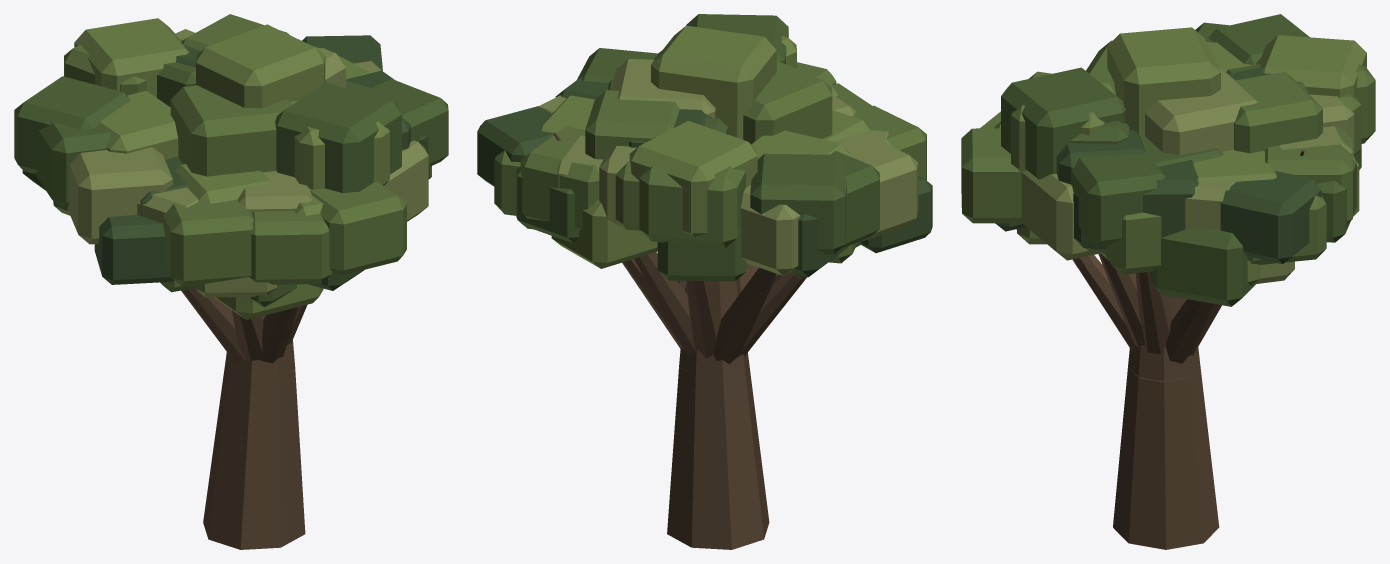
File: oak_ancient_spring.glb
The picture shows the model from 3 angles, left to right: view 1: azimuth 30°, elevation 25°; view 2: azimuth 150°, elevation 25°; view 3: azimuth 270°, elevation 25°; orthographic projection.
Parts seen in each view (by area): view 1: oak_ancient_spring; view 2: oak_ancient_spring; view 3: oak_ancient_spring.
Boxes of the visible parts, x1=… form: oak_ancient_spring: x1=14, y1=14, x2=448, y2=549; oak_ancient_spring: x1=477, y1=14, x2=932, y2=549; oak_ancient_spring: x1=961, y1=14, x2=1375, y2=549.
Size of the model in its own units: 19.31 by 24 by 18.68.
